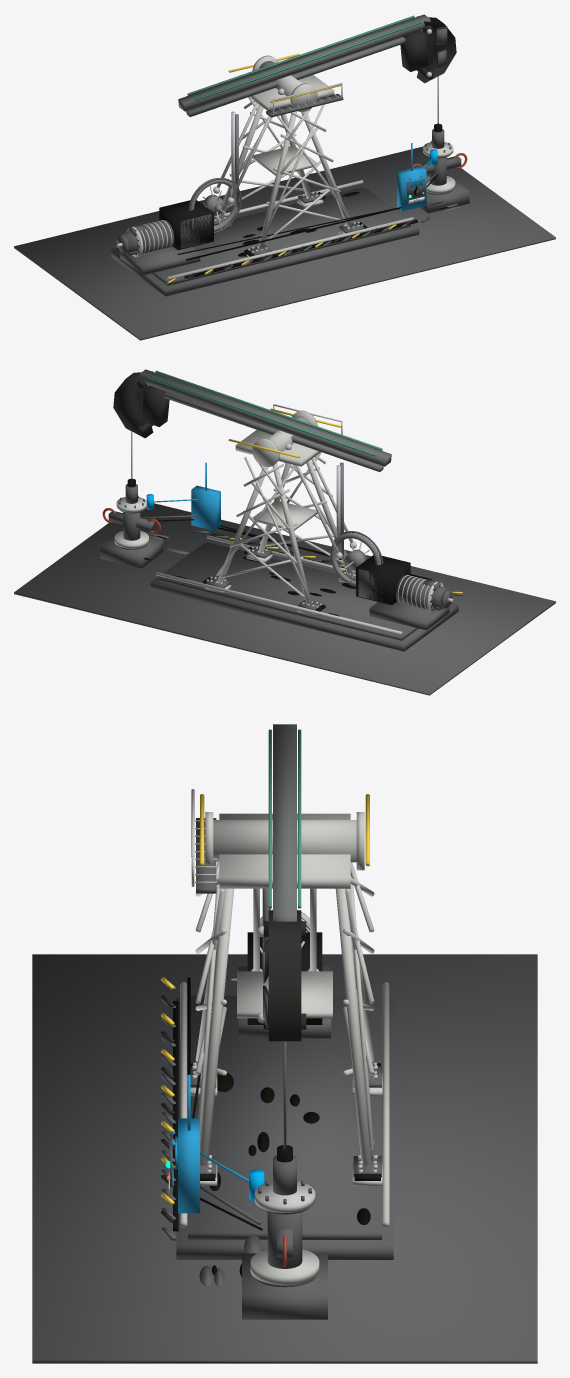
Rendered from pumpjack.glb.
The picture shows the model from 3 angles, top to bottom: view 1: azimuth 30°, elevation 25°; view 2: azimuth 150°, elevation 25°; view 3: azimuth 270°, elevation 25°; orthographic projection. The views are drawn at different scales.
Visible parts, largest first — view 1: Suelo industrial oscuro, Placa superior base, Brazo principal superior, Base principal larga, Caja reductora, Brazo refuerzo inferior, PREMIUM_Base_motor_reforzada, Cabezal horsehead rojo, Riel lateral frontal, Cuello unión cabezal, Plataforma media torre, Plataforma superior torre (+16 smaller); view 2: Suelo industrial oscuro, Placa superior base, Brazo principal superior, Base principal larga, Caja reductora, Brazo refuerzo inferior, Cabezal horsehead rojo, PREMIUM_Base_motor_reforzada, Base negra pozo, Gabinete RTU azul, Riel lateral trasero, Plataforma superior torre (+15 smaller); view 3: Suelo industrial oscuro, Placa superior base, Base principal larga, Brazo principal superior, Plataforma superior torre, Cabezal horsehead rojo, Eje principal central, Base negra pozo, Pata torre inclinada 4, Pata torre inclinada 2, Plataforma media torre, Gabinete RTU azul (+12 smaller).
Boxes of the visible parts, bbox=[...] form: Suelo industrial oscuro: bbox=[14, 146, 555, 340]; Placa superior base: bbox=[151, 187, 410, 285]; Brazo principal superior: bbox=[178, 14, 430, 111]; Base principal larga: bbox=[111, 187, 419, 296]; Caja reductora: bbox=[159, 200, 213, 249]; Brazo refuerzo inferior: bbox=[186, 36, 405, 116]; PREMIUM_Base_motor_reforzada: bbox=[120, 246, 200, 275]; Cabezal horsehead rojo: bbox=[416, 16, 456, 83]; Riel lateral frontal: bbox=[167, 217, 413, 280]; Cuello unión cabezal: bbox=[400, 30, 428, 71]; Plataforma media torre: bbox=[252, 145, 317, 175]; Plataforma superior torre: bbox=[249, 75, 334, 110]; Suelo industrial oscuro: bbox=[14, 503, 555, 695]; Placa superior base: bbox=[159, 542, 418, 640]; Brazo principal superior: bbox=[139, 369, 391, 466]; Base principal larga: bbox=[150, 542, 458, 651]; Caja reductora: bbox=[356, 555, 410, 604]; Brazo refuerzo inferior: bbox=[164, 391, 383, 471]; Cabezal horsehead rojo: bbox=[113, 371, 153, 438]; PREMIUM_Base_motor_reforzada: bbox=[369, 601, 449, 630]; Base negra pozo: bbox=[100, 530, 163, 568]; Gabinete RTU azul: bbox=[191, 485, 220, 530]; Riel lateral trasero: bbox=[156, 572, 402, 635]; Plataforma superior torre: bbox=[235, 430, 320, 466]; Suelo industrial oscuro: bbox=[32, 954, 537, 1363]; Placa superior base: bbox=[188, 995, 381, 1239]; Base principal larga: bbox=[176, 997, 393, 1259]; Brazo principal superior: bbox=[273, 724, 296, 921]; Plataforma superior torre: bbox=[219, 813, 350, 888]; Cabezal horsehead rojo: bbox=[268, 910, 301, 1041]; Eje principal central: bbox=[213, 820, 356, 862]; Base negra pozo: bbox=[242, 1253, 327, 1319]; Pata torre inclinada 4: bbox=[335, 888, 372, 1165]; Pata torre inclinada 2: bbox=[200, 888, 234, 1165]; Plataforma media torre: bbox=[237, 971, 332, 1018]; Gabinete RTU azul: bbox=[178, 1118, 199, 1213].
Bounding box in the file's own units: 9.5 × 4.21 × 5.
23 materials, 1 textured.
